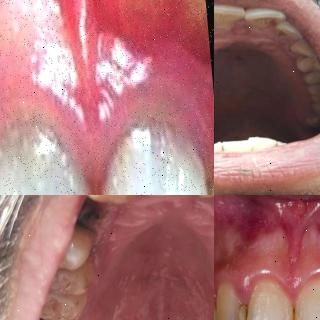Gum Swelling: (0, 1, 214, 195), (227, 260, 320, 304)
cavities: (228, 295, 255, 320), (275, 305, 312, 320), (309, 76, 320, 89), (36, 314, 58, 320)
maligned: (214, 2, 246, 34)
stains: (249, 13, 282, 29), (214, 11, 238, 31), (292, 54, 314, 70), (275, 26, 293, 44)
